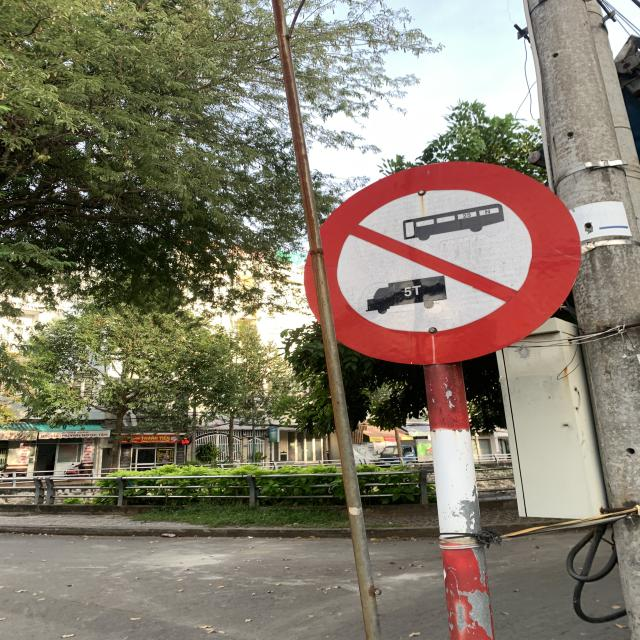Cam_XeTai_XeKhach: (297, 158, 579, 364)
